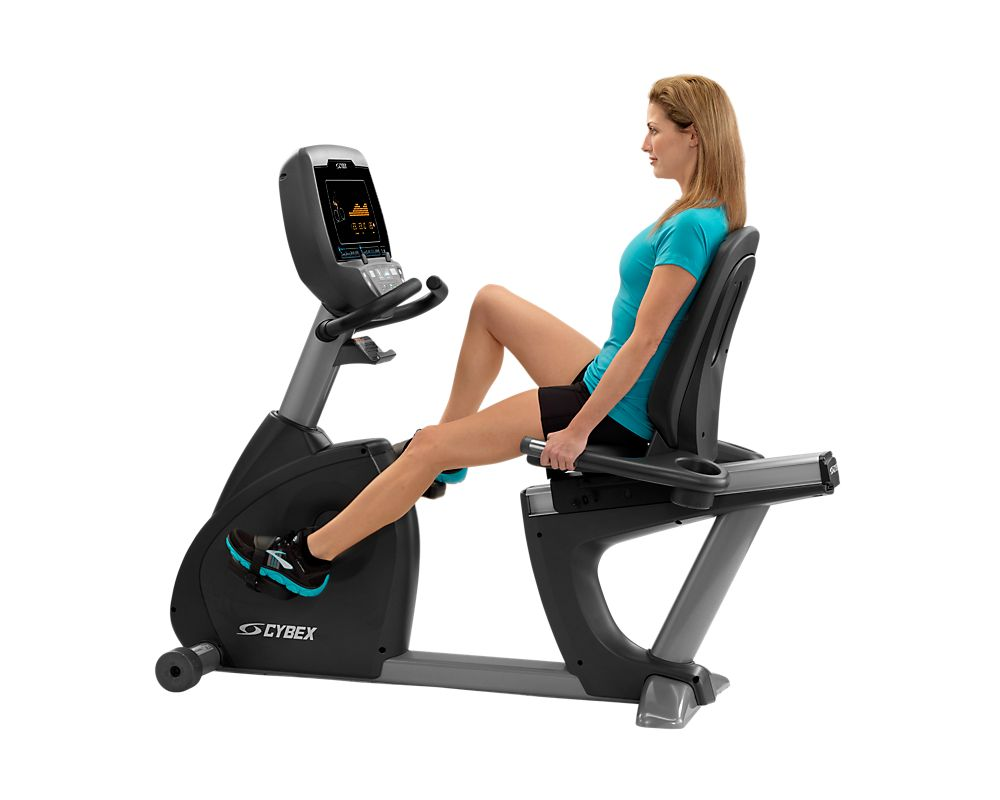gym_bike: (133, 135, 846, 738)
